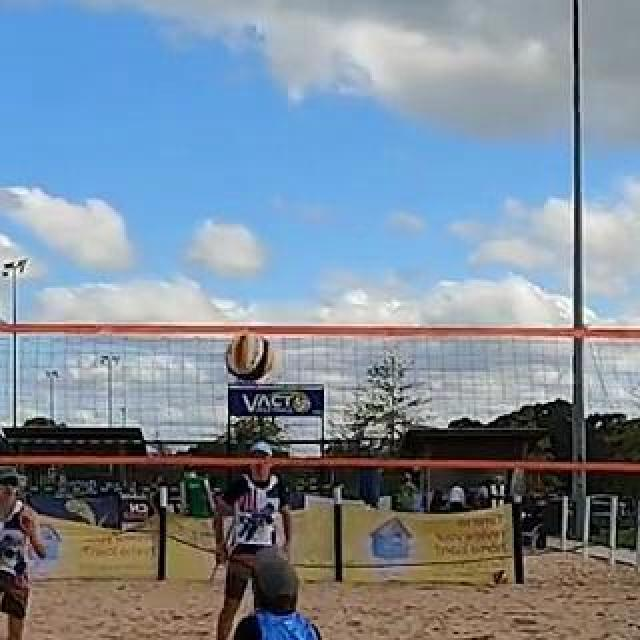volleyball: (228, 334, 272, 380), (493, 570, 509, 584)
